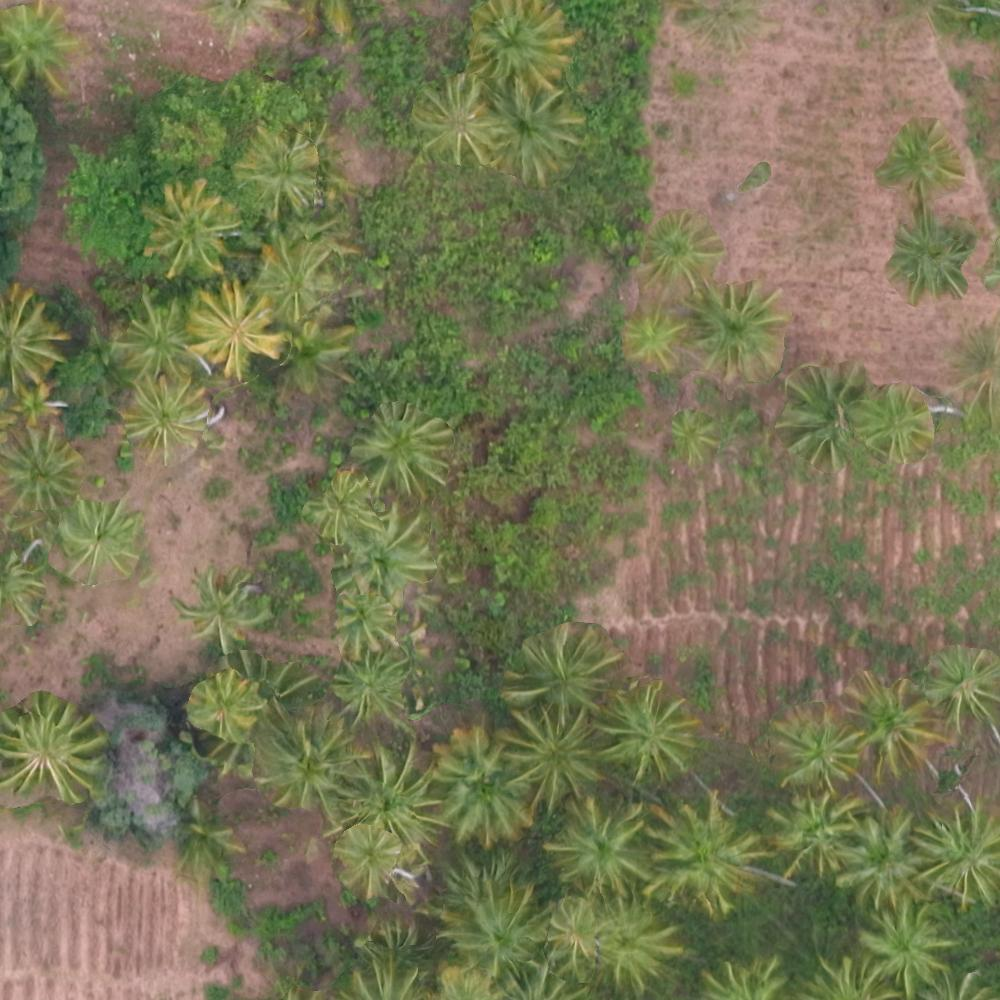Palm: (647, 798, 761, 910), (434, 727, 541, 840), (341, 747, 445, 852), (2, 692, 104, 799), (505, 623, 619, 718), (549, 796, 658, 895), (259, 705, 362, 806), (837, 674, 941, 773), (504, 702, 605, 802), (600, 688, 698, 789), (832, 811, 931, 910), (684, 279, 784, 374), (467, 6, 570, 93), (144, 181, 237, 277), (483, 85, 577, 178), (781, 368, 877, 459), (584, 897, 676, 991), (912, 807, 999, 906), (412, 78, 505, 169), (768, 792, 864, 880), (1, 2, 90, 96), (53, 497, 143, 589), (341, 515, 431, 604), (452, 889, 546, 973), (109, 296, 197, 385), (124, 375, 214, 461), (185, 284, 275, 369), (860, 909, 951, 993), (1, 423, 84, 515), (359, 404, 449, 488), (176, 568, 268, 650), (774, 705, 862, 789), (233, 130, 318, 216), (253, 240, 337, 323), (921, 644, 1000, 730), (891, 212, 971, 291), (641, 216, 720, 291), (277, 313, 351, 391), (861, 388, 938, 461), (885, 123, 963, 193), (333, 656, 412, 723), (186, 674, 258, 746), (309, 471, 382, 542), (330, 594, 399, 657), (620, 309, 684, 364)
